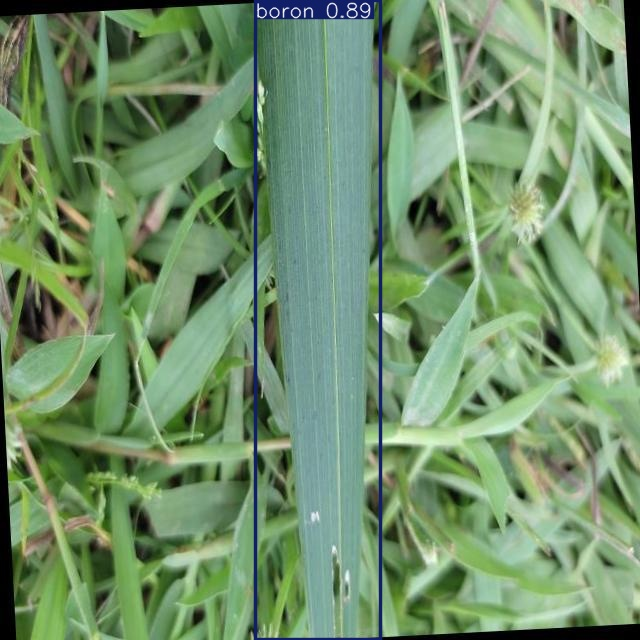nitrogen: (255, 0, 380, 640)
